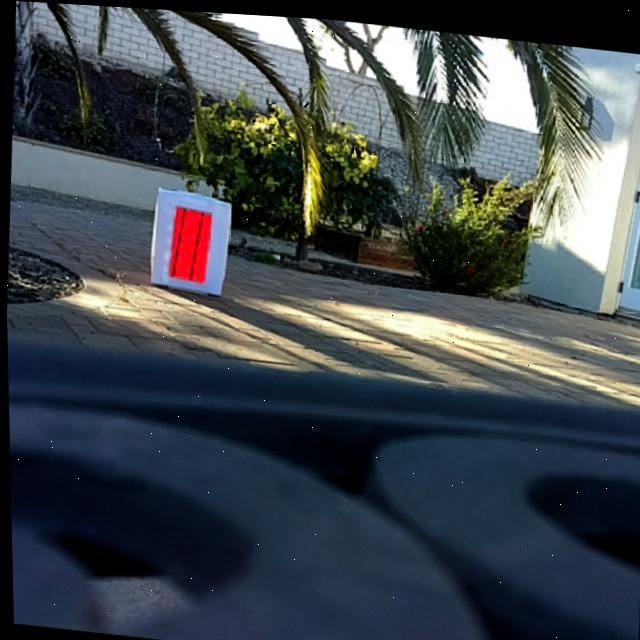led: (167, 204, 212, 283)
